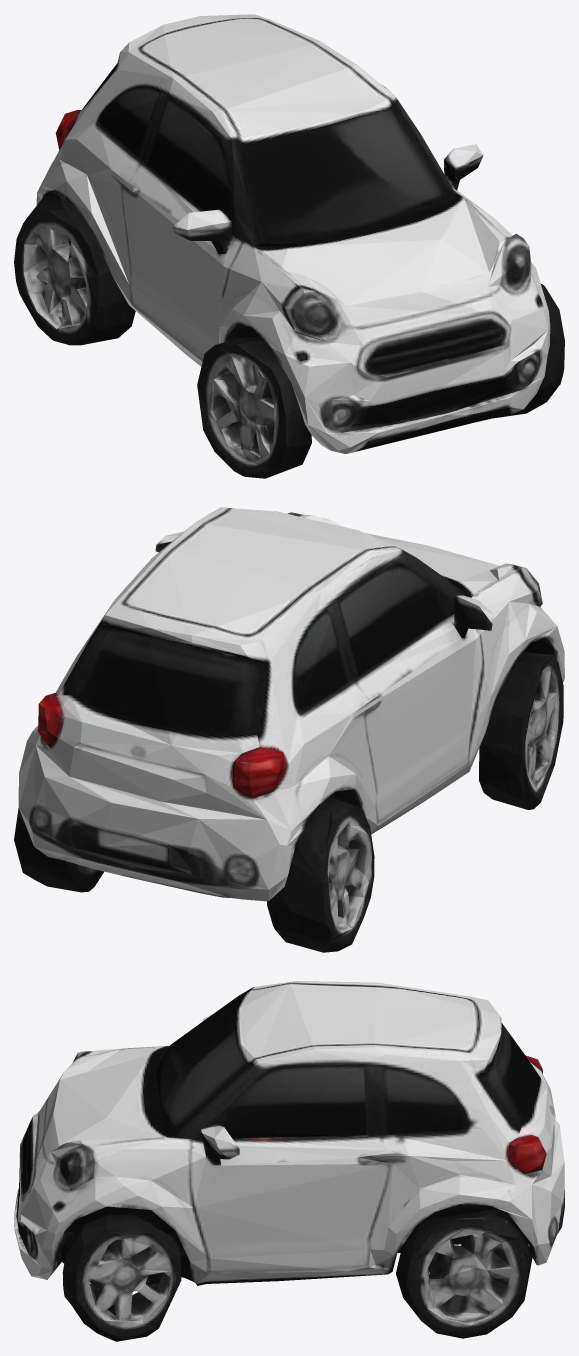
The model's file is hatchback.glb.
3 renders of one model, top to bottom at view 1: azimuth 30°, elevation 25°; view 2: azimuth 150°, elevation 25°; view 3: azimuth 270°, elevation 25°, orthographic. The views are drawn at different scales.
Parts seen in each view (by area): view 1: geometry_0; view 2: geometry_0; view 3: geometry_0.
Part boxes in pixels (box(x1,y1,x2,y2)): geometry_0: box(14, 14, 564, 478); geometry_0: box(14, 507, 564, 952); geometry_0: box(14, 981, 564, 1341).
Size of the model in its own units: 2.43 by 2.13 by 3.99.
Materials: 1 (1 with a texture image).
